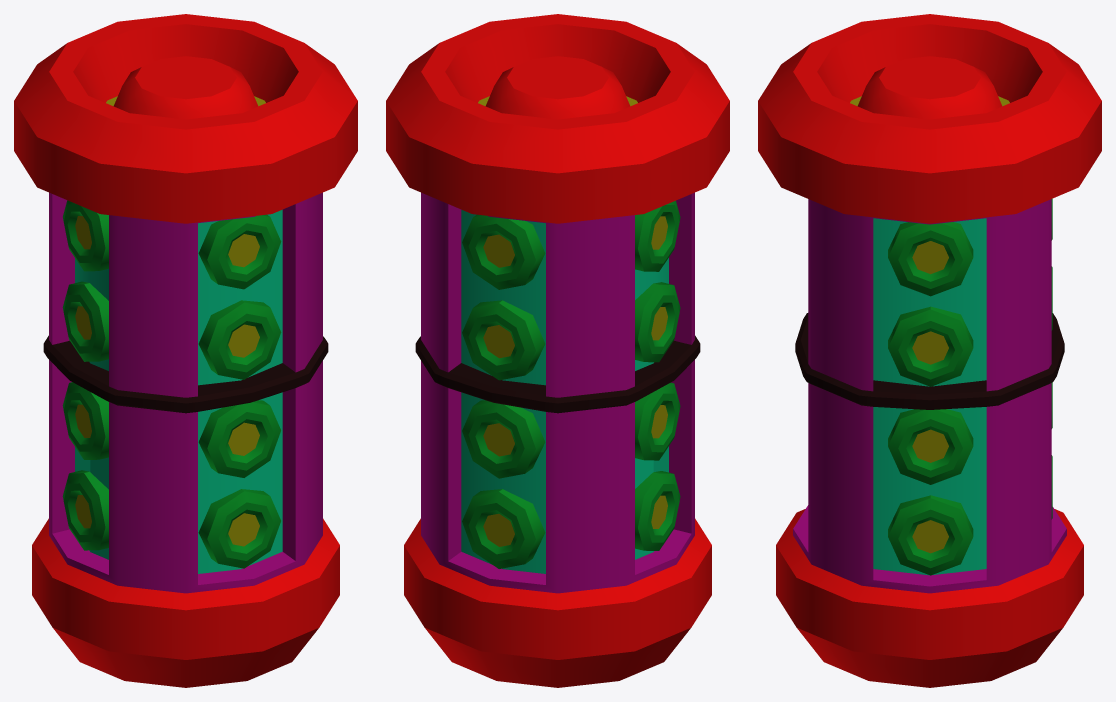
File: OBJ_Battery.fbx
3 views of the same model, side by side, from view 1: azimuth 30°, elevation 25°; view 2: azimuth 150°, elevation 25°; view 3: azimuth 270°, elevation 25° (orthographic).
Visible parts, largest first — view 1: OBJ_Battery; view 2: OBJ_Battery; view 3: OBJ_Battery.
Part boxes in pixels (x1,y1,x2,y2): OBJ_Battery: (14, 14, 357, 687); OBJ_Battery: (386, 14, 729, 687); OBJ_Battery: (758, 14, 1101, 687).
Size of the model in its own units: 71.75 by 130 by 71.75.
